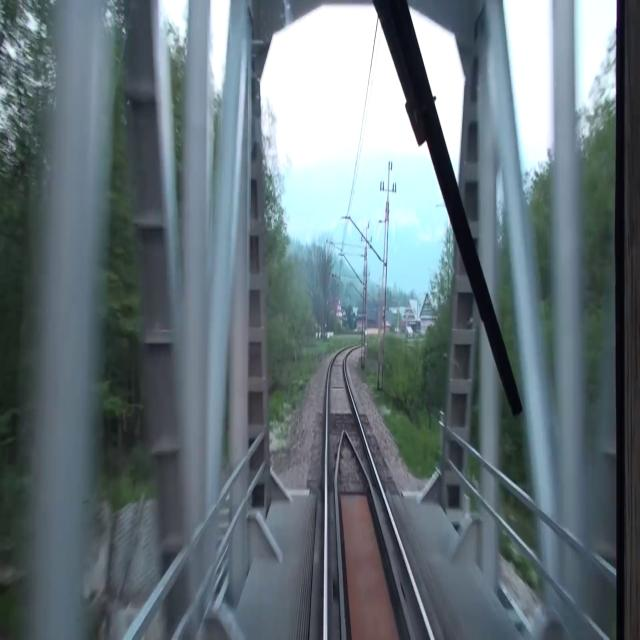rail-track: (328, 351, 429, 639)
